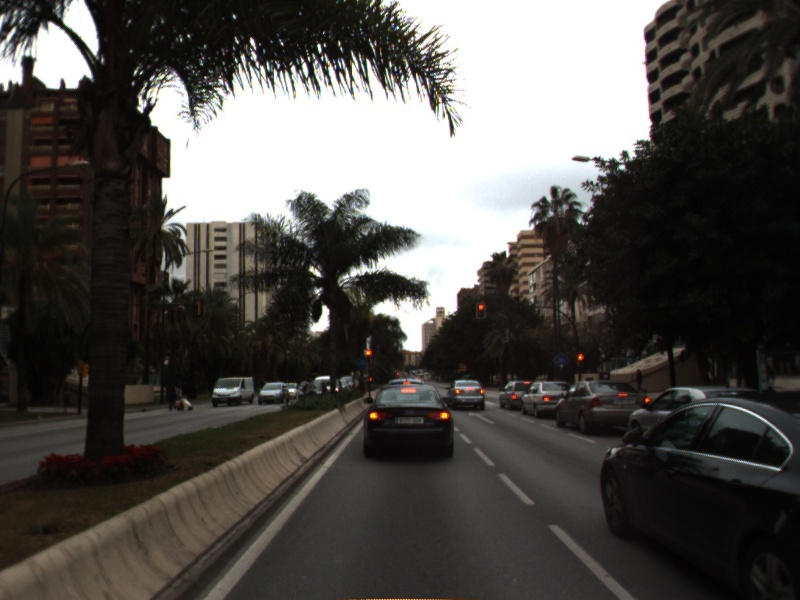STRAIGHT: (466, 409, 497, 426)
